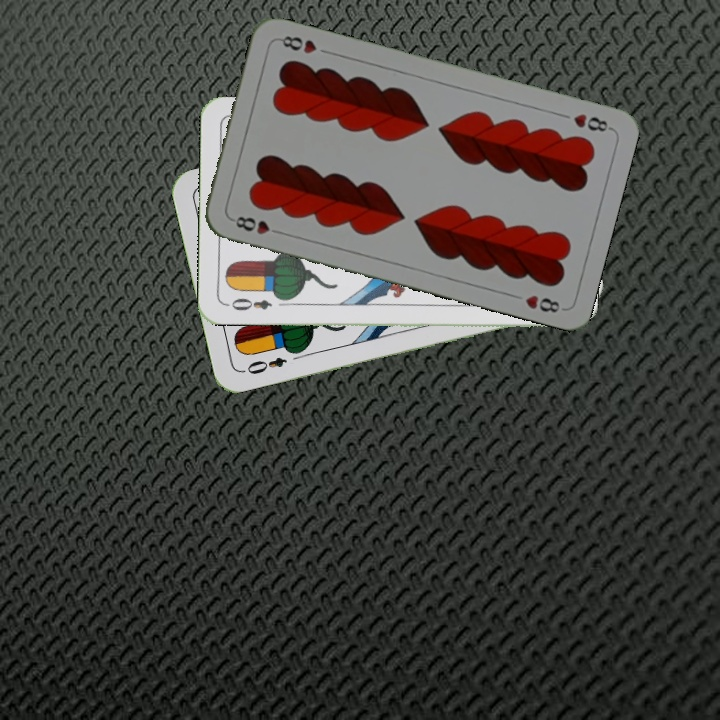EO: (238, 353, 290, 377), (222, 294, 274, 314)
H8: (227, 212, 286, 237), (569, 109, 614, 135)
